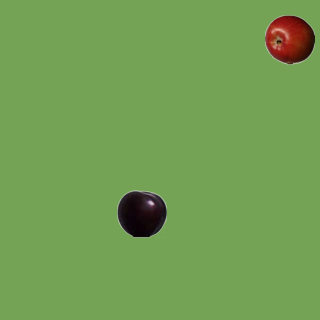Apple Braeburn: (264, 14, 314, 64)
Cherry Wax Black: (116, 188, 166, 238)
